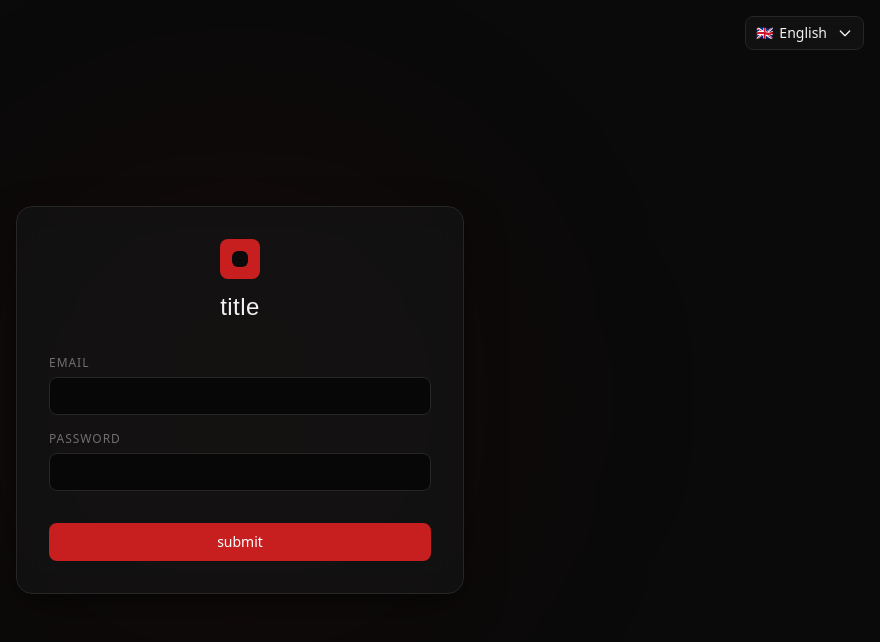
Scenario: LoginPage › should show error message on failure when credentials invalid
Type "wrong@test.com" into the field labelled "email" at [240, 396], box [49,377,431,415]
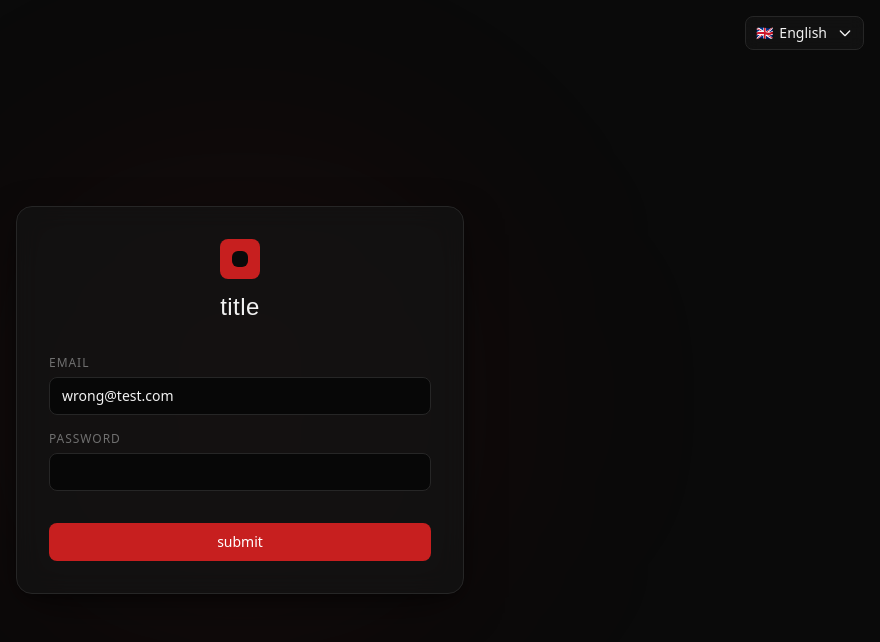
Type "wrong" into the password field labelled "password" at [240, 472], box [49,453,431,491]
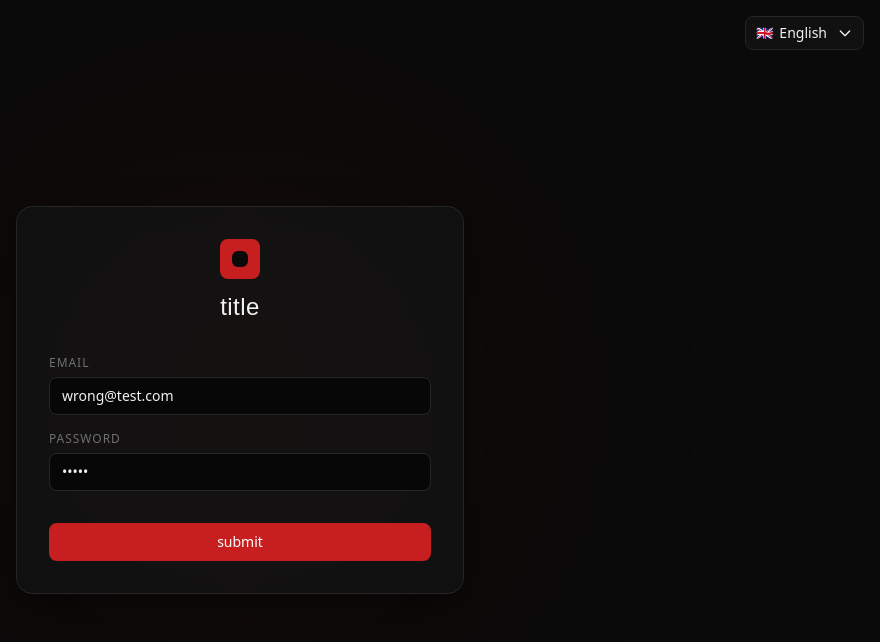
Click the button "submit" at [240, 542], box [49,523,431,561]
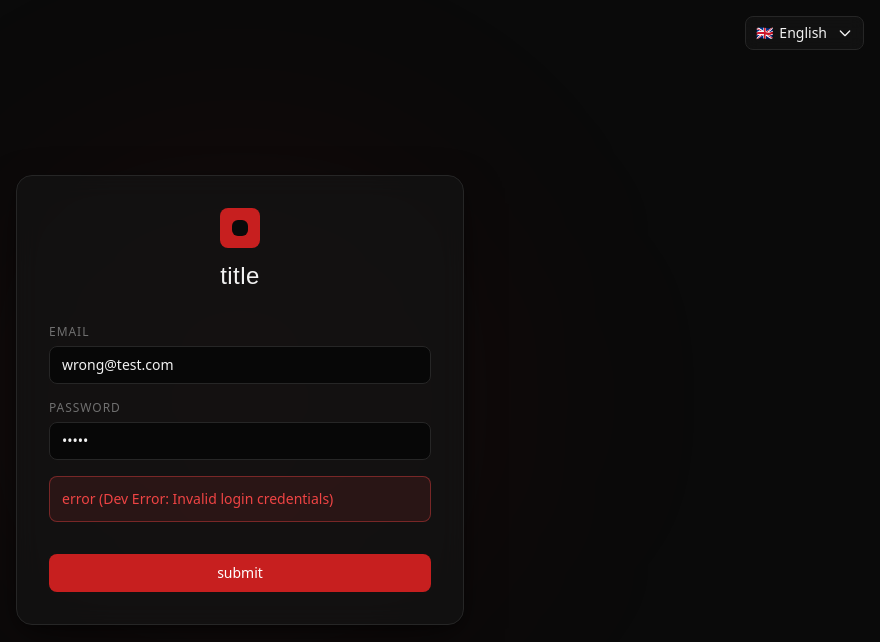
Check: the text "error (Dev Error: Invalid login credentials)" is shown, box [49,476,431,522]
